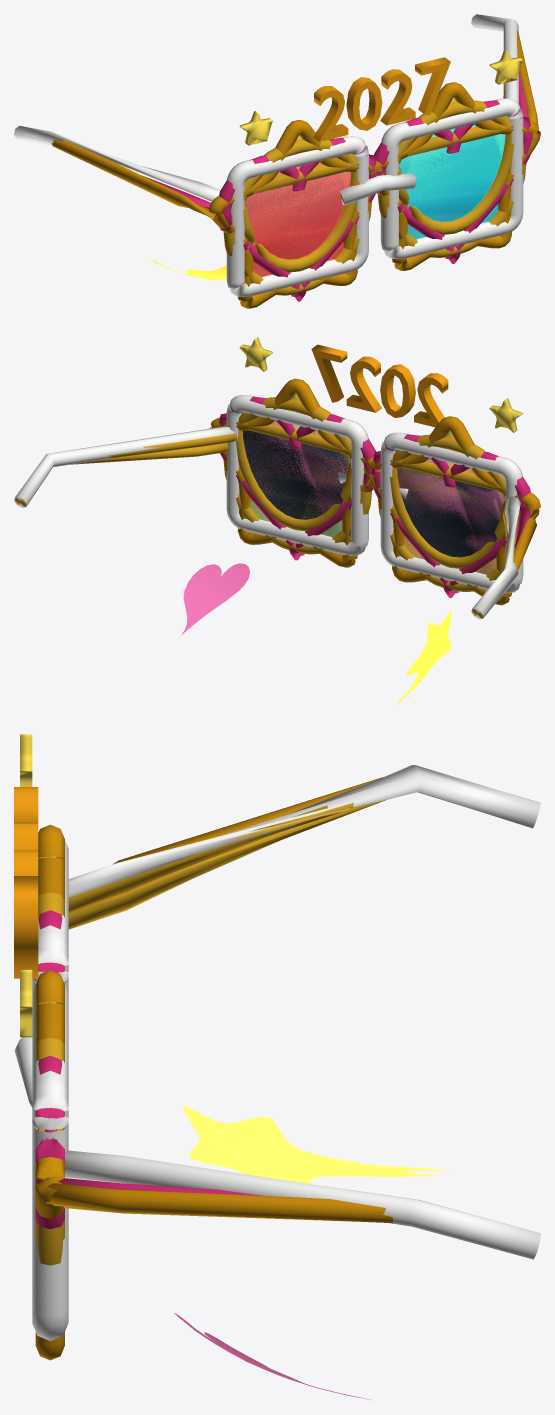
The model's file is props-e.glb.
3 renders of one model, top to bottom at view 1: azimuth 30°, elevation 25°; view 2: azimuth 150°, elevation 25°; view 3: azimuth 270°, elevation 25°, orthographic. The views are drawn at different scales.
Visible parts, largest first — view 1: e-3d, e-sun, e-2027, e-star, e-heart, e-sticker; view 2: e-sun, e-3d, e-2027, e-heart, e-star, e-sticker; view 3: e-3d, e-star, e-2027, e-sticker, e-sun, e-heart.
Boxes of the visible parts, <box> form: e-3d: <box>14,14,523,296</box>; e-sun: <box>120,83,513,272</box>; e-2027: <box>190,50,526,295</box>; e-star: <box>51,30,540,308</box>; e-heart: <box>143,72,532,301</box>; e-sticker: <box>147,257,226,280</box>; e-sun: <box>109,420,510,568</box>; e-3d: <box>14,395,523,619</box>; e-2027: <box>15,337,522,617</box>; e-heart: <box>219,396,530,597</box>; e-star: <box>209,378,540,605</box>; e-sticker: <box>180,563,451,703</box>; e-3d: <box>14,765,540,1340</box>; e-star: <box>35,777,392,1360</box>; e-2027: <box>14,734,386,1265</box>; e-sticker: <box>174,1106,451,1399</box>; e-sun: <box>37,802,372,1130</box>; e-heart: <box>35,910,264,1229</box>.
Bounding box in the file's own units: 0.4359 × 0.2076 × 0.2175.
